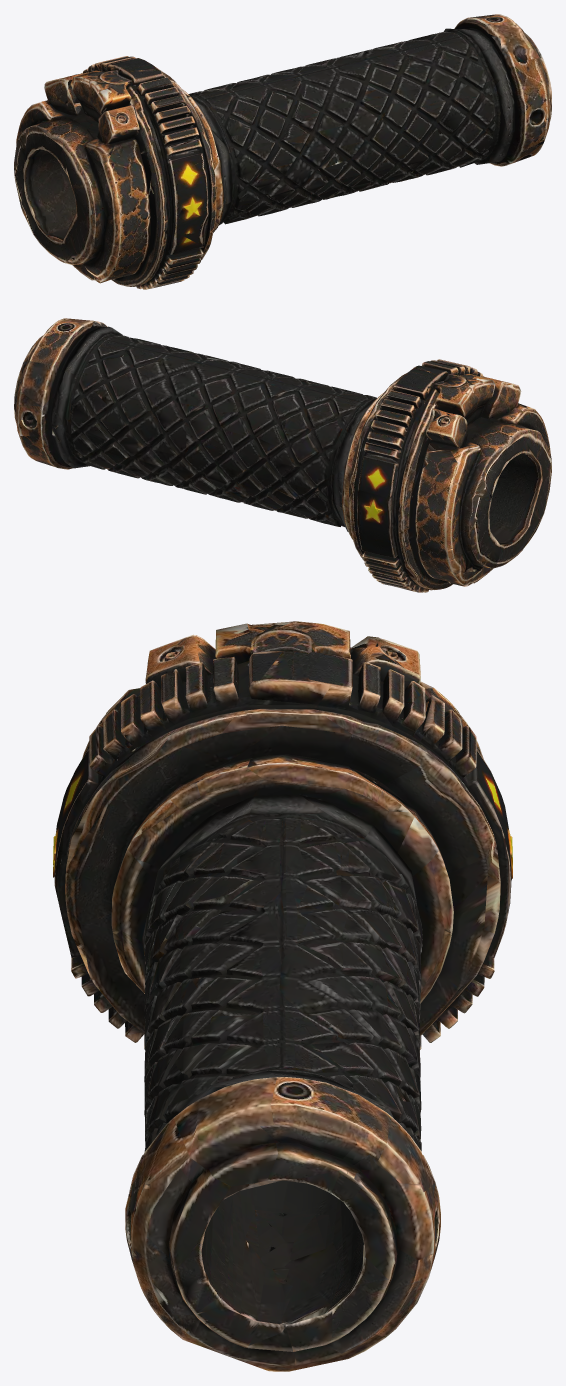
File: throttle_grip.glb
3 renders of one model, top to bottom at view 1: azimuth 30°, elevation 25°; view 2: azimuth 150°, elevation 25°; view 3: azimuth 270°, elevation 25°, orthographic. The views are drawn at different scales.
Parts seen in each view (by area): view 1: Grip, Body; view 2: Grip, Body; view 3: Grip, Body.
Part boxes in pixels (left/top/right/bottom): Grip: left=188, top=14, right=551, bottom=224; Body: left=14, top=56, right=232, bottom=289; Grip: left=14, top=318, right=376, bottom=526; Body: left=333, top=359, right=551, bottom=592; Grip: left=125, top=812, right=440, bottom=1371; Body: left=53, top=621, right=512, bottom=1049.
Bounding box in the file's own units: 1.9 × 0.7837 × 0.7993.
1 material, 1 textured.
